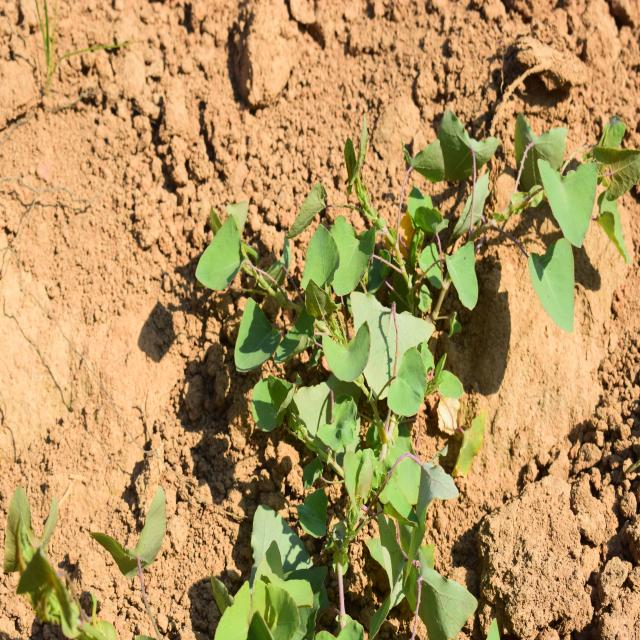Asiatic_Smartweed: (284, 225, 438, 441), (467, 118, 633, 318), (186, 189, 304, 434), (306, 111, 452, 259)
